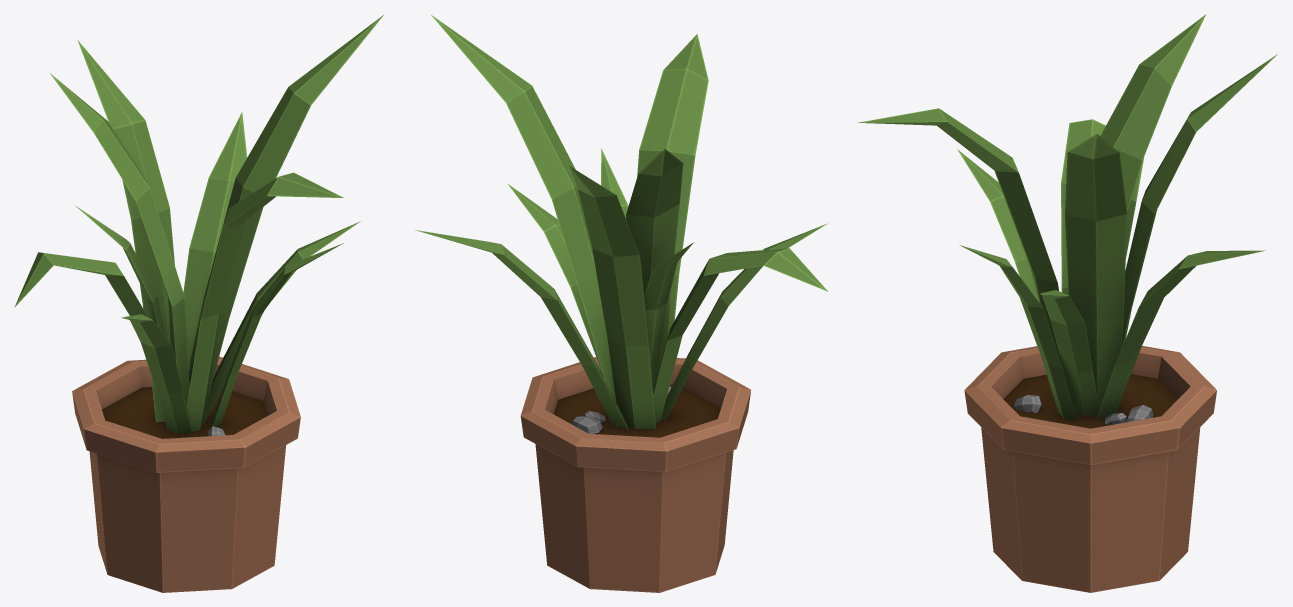
The model's file is Houseplant.obj.
The picture shows the model from 3 angles, left to right: view 1: azimuth 30°, elevation 25°; view 2: azimuth 150°, elevation 25°; view 3: azimuth 270°, elevation 25°; orthographic projection. The views are drawn at different scales.
Visible parts, largest first — view 1: Houseplant_mesh; view 2: Houseplant_mesh; view 3: Houseplant_mesh.
Boxes of the visible parts, x1=… form: Houseplant_mesh: x1=14, y1=15, x2=383, y2=592; Houseplant_mesh: x1=415, y1=15, x2=828, y2=592; Houseplant_mesh: x1=857, y1=14, x2=1277, y2=592.
Bounding box in the file's own units: 4.85 × 5.93 × 4.34.
Materials: 1 (1 with a texture image).
